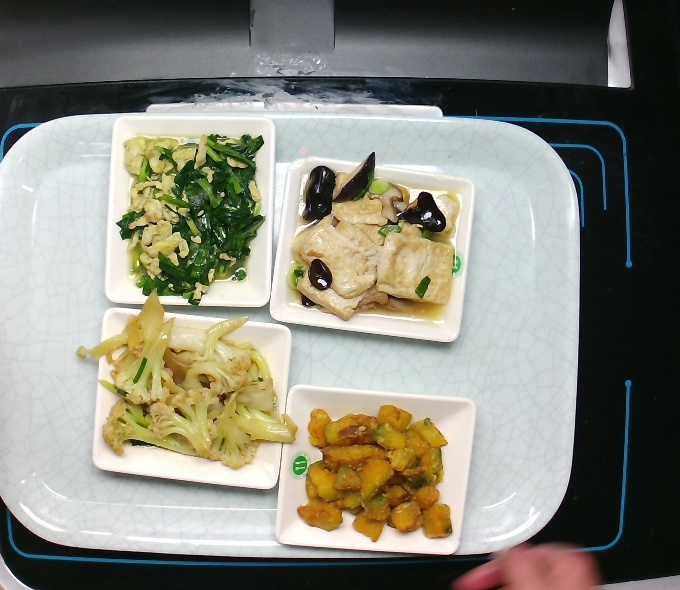wcq-DanHuangNanGua: (300, 404, 463, 546)
wcq-JiaChangDouFu: (287, 149, 460, 326)
wcq-JiuCaiJiDan: (113, 133, 268, 299)
wcq-QiuCai: (96, 308, 291, 471)
